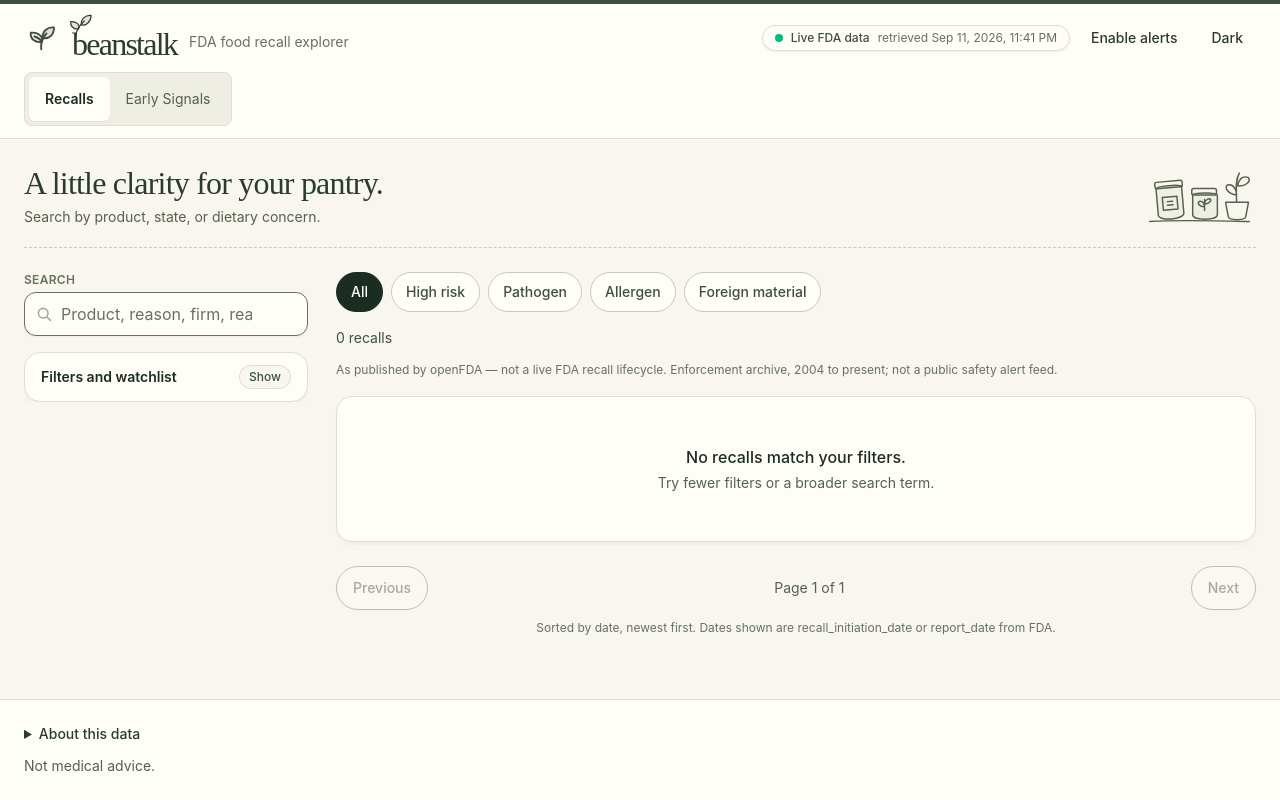
it: App notification integration › updates state to enabled after permission is granted
What coordinates should you click on to do the following:
click the button with aria-label "enable browser alert"
I would click on:
 (1134, 38)
Its box is [1078,16,1190,60].
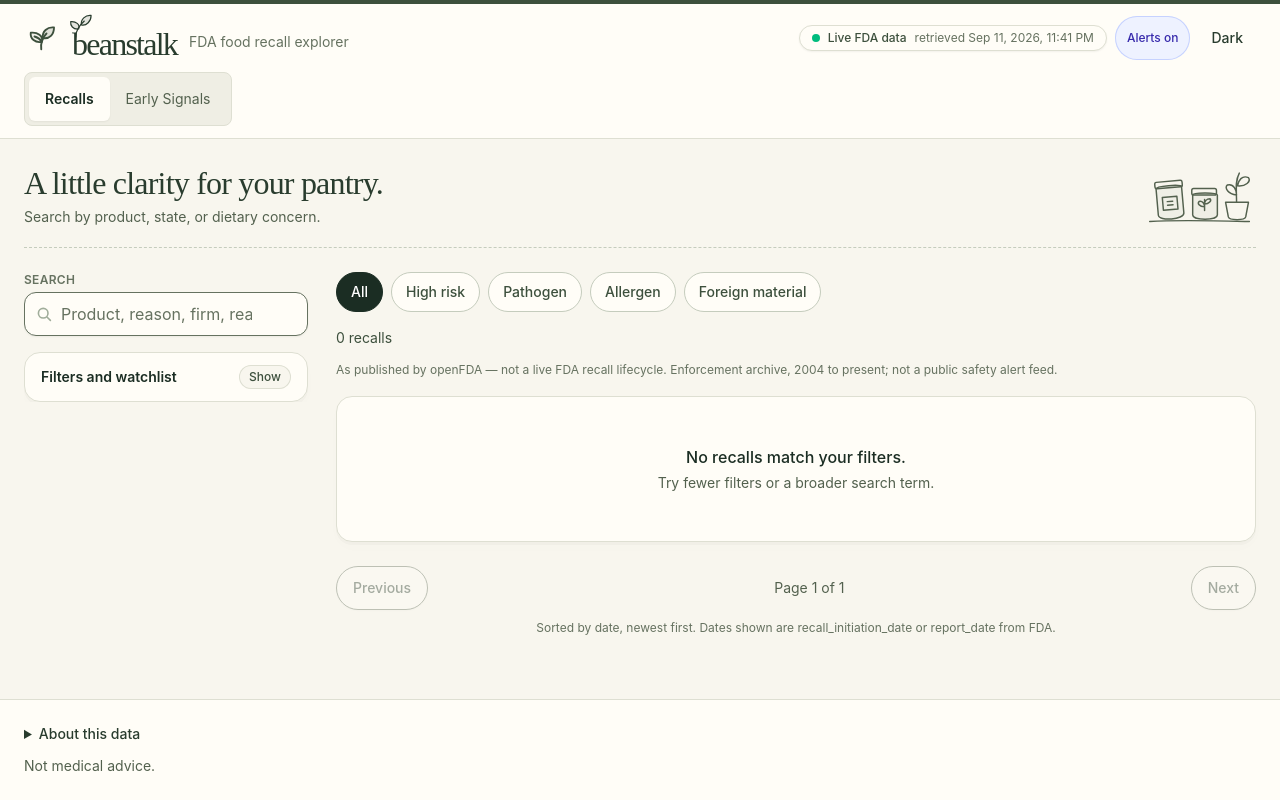
Expected: the text "Alerts on" is shown, [1115,16,1190,60]
